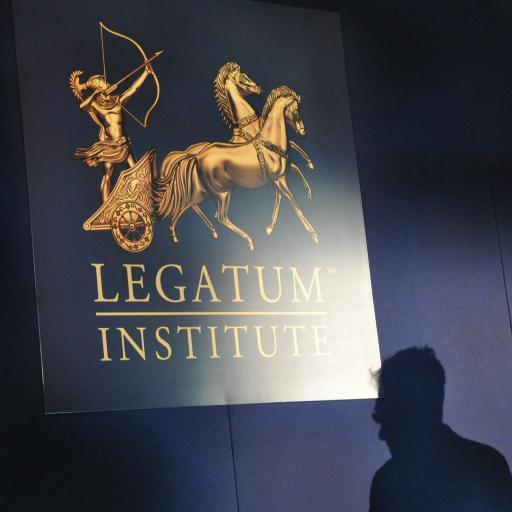horse: (152, 86, 320, 252), (161, 60, 314, 238)
